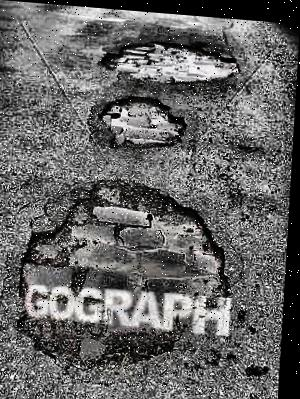pothole: (11, 164, 239, 376), (97, 33, 242, 79), (97, 89, 191, 149)
